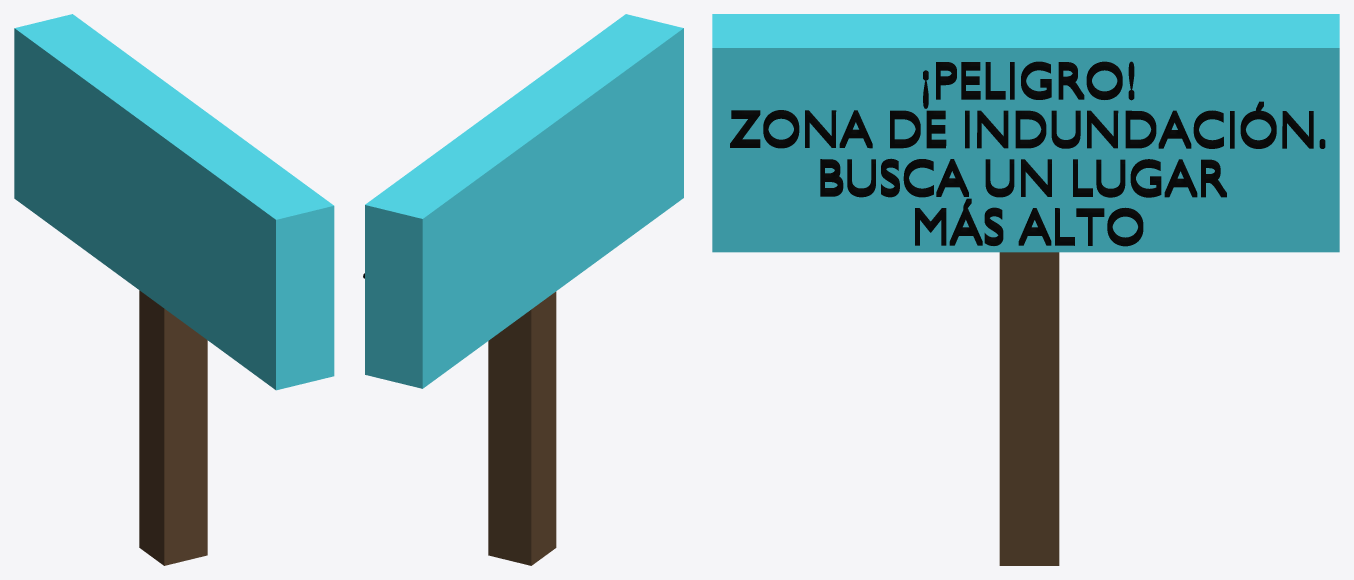
Rendered from ZonaIndundacion.glb.
The picture shows the model from 3 angles, left to right: view 1: azimuth 30°, elevation 25°; view 2: azimuth 150°, elevation 25°; view 3: azimuth 270°, elevation 25°; orthographic projection. The views are drawn at different scales.
Visible parts, largest first — view 1: Cubo.010, Cubo.011; view 2: Cubo.010, Cubo.011; view 3: Cubo.010, Texto.004, Cubo.011.
Part boxes in pixels (x1,y1,x2,y2): Cubo.010: (14, 14, 334, 390); Cubo.011: (139, 290, 207, 565); Cubo.010: (365, 14, 683, 388); Cubo.011: (488, 291, 556, 565); Cubo.010: (712, 14, 1339, 252); Texto.004: (730, 61, 1325, 246); Cubo.011: (999, 252, 1059, 565).
Bounding box in the file's own units: 0.4684 × 2.96 × 3.22.
